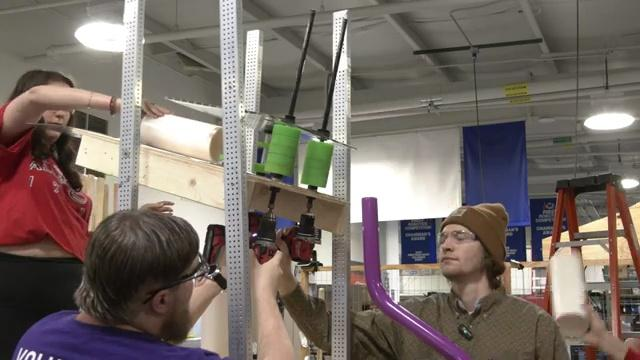CORAL: (547, 246, 590, 338), (141, 115, 224, 160)
